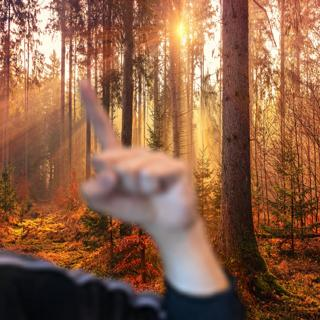IRRITATED: (71, 74, 199, 235)
